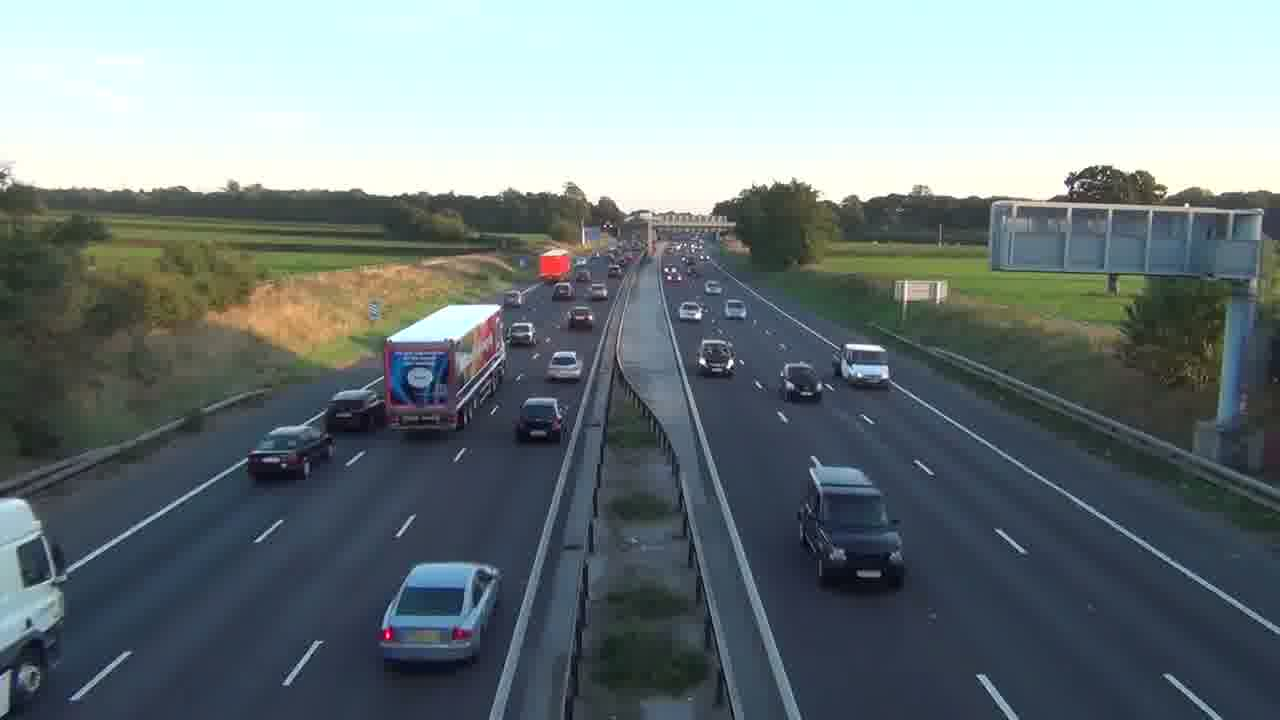car: (376, 560, 503, 668), (514, 396, 566, 441), (780, 361, 823, 401), (545, 350, 581, 382), (507, 319, 536, 347), (566, 305, 594, 331), (705, 280, 723, 295)
truck: (384, 303, 506, 436), (796, 455, 907, 589), (0, 497, 67, 716), (838, 342, 890, 388)
